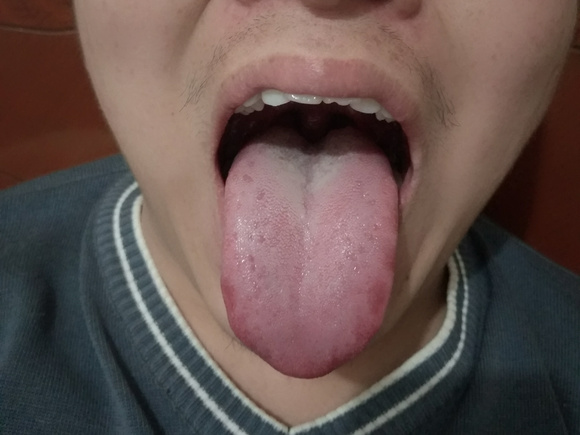baitaishe: (220, 125, 395, 378)
chihenshe: (221, 278, 268, 361)
shenquao: (273, 126, 353, 158)
